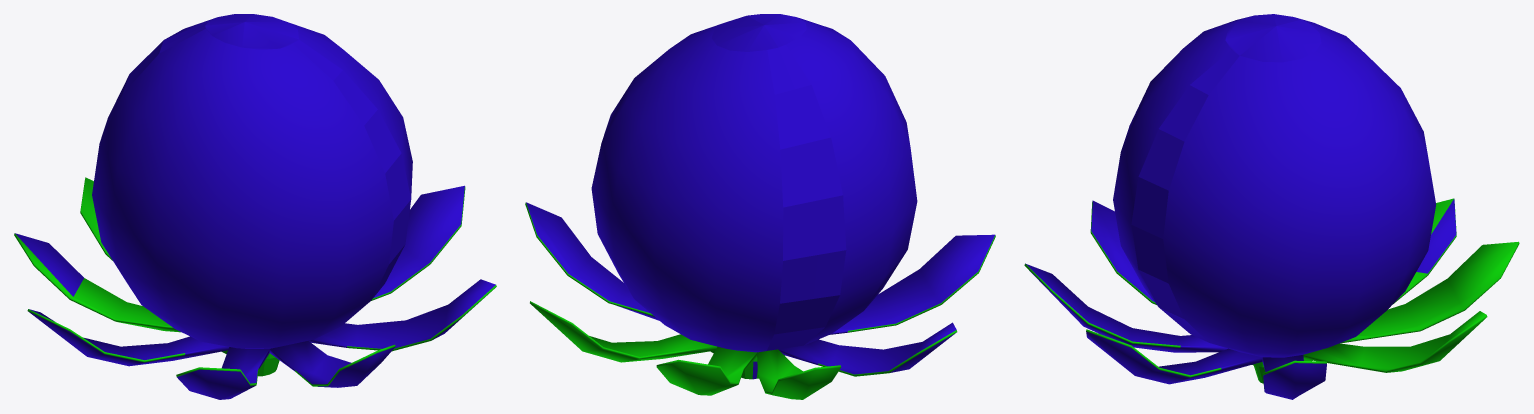
Rendered from FruitTree_Fruit.fbx.
3 renders of one model, left to right at view 1: azimuth 30°, elevation 25°; view 2: azimuth 150°, elevation 25°; view 3: azimuth 270°, elevation 25°, orthographic.
Visible parts, largest first — view 1: Sphere.004; view 2: Sphere.004; view 3: Sphere.004.
Part boxes in pixels (x1=…): Sphere.004: x1=14, y1=14, x2=496, y2=399; Sphere.004: x1=525, y1=14, x2=995, y2=399; Sphere.004: x1=1024, y1=14, x2=1519, y2=399.
Size of the model in its own units: 10.9 by 8.44 by 10.85.
